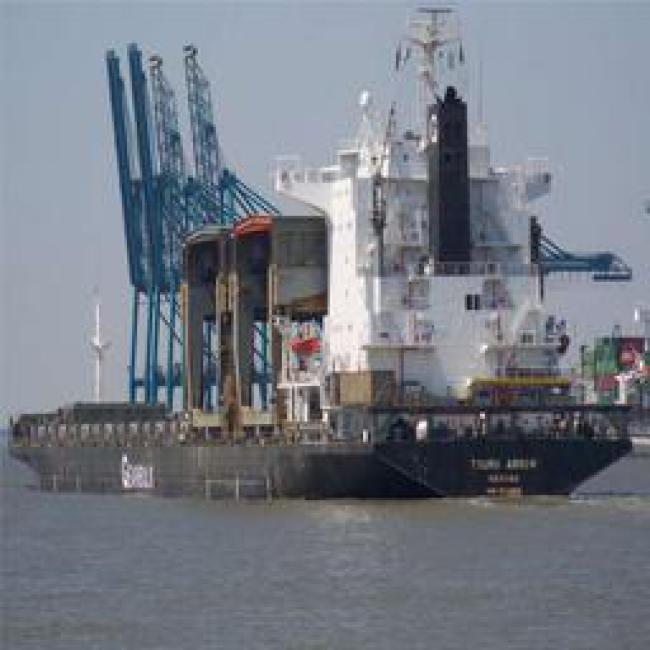Ship: (15, 316, 631, 505)
